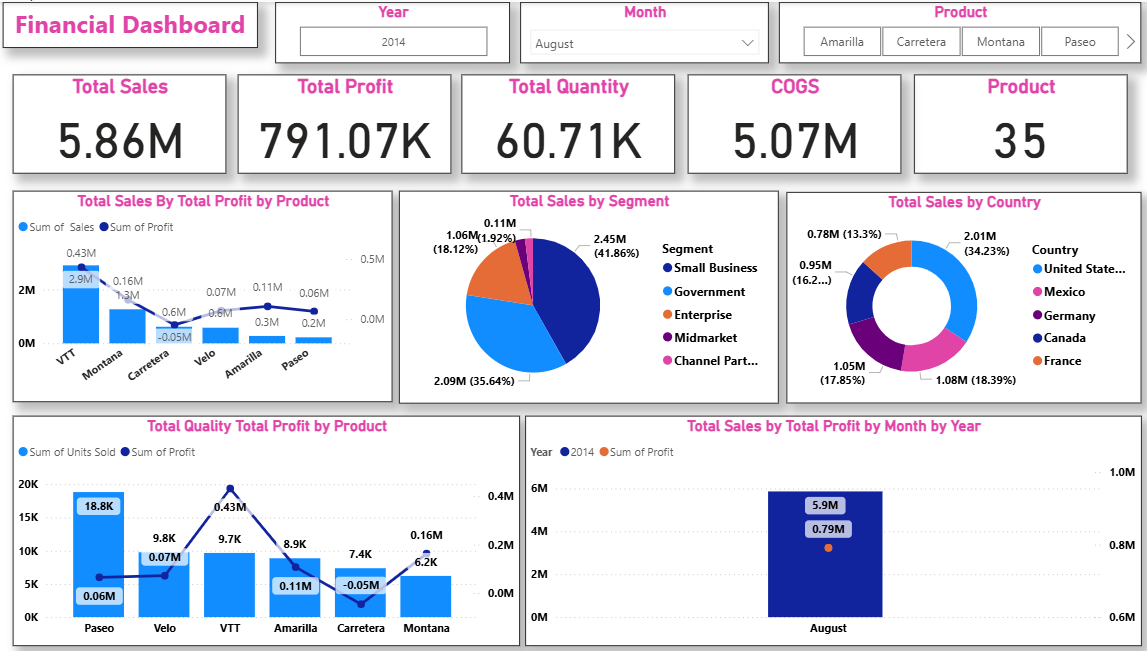

Layout of this report page (visuals, bound fields, positions):
{"tool":"powerbi","page":{"name":"Page 1","canvas":[1280,720],"ordinal":0},"visuals":[{"type":"textbox","box":[9.6,0,279.9,50.8],"z":0},{"type":"slicer","title":"Year","fields":{"Values":["financials.Year"]},"box":[308.7,0,258,67.2],"z":1},{"type":"slicer","title":"Month","fields":{"Values":["financials.Month Name"]},"box":[577.7,0,273.1,67.2],"z":2},{"type":"slicer","title":"Product","fields":{"Values":["financials.Product"]},"box":[861.8,0,397.9,67.2],"z":3},{"type":"card","title":"Total Sales","fields":{"Values":["Sum(financials. Sales)"]},"box":[20.6,79.6,234.6,108.4],"z":4},{"type":"card","title":"Total Profit","fields":{"Values":["Sum(financials.Profit)"]},"box":[267.6,79.6,234.6,108.4],"z":6},{"type":"card","title":"Product","fields":{"Values":["CountNonNull(financials.Product)"]},"box":[1010,79.6,234.6,108.4],"z":7},{"type":"card","title":"Total Quantity","fields":{"Values":["Sum(financials.Units Sold)"]},"box":[513.2,79.6,234.6,108.4],"z":8},{"type":"card","title":"COGS","fields":{"Values":["Sum(financials.COGS)"]},"box":[761.6,79.6,234.6,108.4],"z":9},{"type":"lineStackedColumnComboChart","title":"Total Sales By Total Profit by Product","fields":{"Y":["Sum(financials. Sales)"],"Category":["financials.Product"],"Y2":["Sum(financials.Profit)"]},"box":[20.6,207.2,417.2,231.9],"z":10},{"type":"pieChart","title":"Total Sales by Segment","fields":{"Y":["Sum(financials. Sales)"],"Category":["financials.Segment"]},"box":[444.6,207.2,417.2,233.3],"z":11},{"type":"donutChart","title":"Total Sales by Country","fields":{"Y":["Sum(financials. Sales)"],"Category":["financials.Country"]},"box":[870,208.6,389.7,231.9],"z":12},{"type":"lineStackedColumnComboChart","title":"Total Quality Total Profit by Product","fields":{"Category":["financials.Product"],"Y":["Sum(financials.Units Sold)"],"Y2":["Sum(financials.Profit)"]},"box":[20.6,454.2,557.1,252.5],"z":13},{"type":"lineStackedColumnComboChart","title":"Total Sales by Total Profit by Month by Year","fields":{"Category":["financials.Month Name"],"Y":["Sum(financials. Sales)"],"Y2":["Sum(financials.Profit)"],"Series":["financials.Year"]},"box":[583.2,454.2,676.5,252.5],"z":14}]}

Visuals, with their boxes in screenshot pixels (x1, y1, x2, y2), scaled from the page's 1280x720 canvas onto the 1147x651 screenshot:
textbox: box(9, 0, 259, 46)
"Year" slicer: box(277, 0, 508, 61)
"Month" slicer: box(518, 0, 762, 61)
"Product" slicer: box(772, 0, 1129, 61)
"Total Sales" card: box(18, 72, 229, 170)
"Total Profit" card: box(240, 72, 450, 170)
"Product" card: box(905, 72, 1115, 170)
"Total Quantity" card: box(460, 72, 670, 170)
"COGS" card: box(682, 72, 893, 170)
"Total Sales By Total Profit by Product" lineStackedColumnComboChart: box(18, 187, 392, 397)
"Total Sales by Segment" pieChart: box(398, 187, 772, 398)
"Total Sales by Country" donutChart: box(780, 189, 1129, 398)
"Total Quality Total Profit by Product" lineStackedColumnComboChart: box(18, 411, 518, 639)
"Total Sales by Total Profit by Month by Year" lineStackedColumnComboChart: box(523, 411, 1129, 639)
